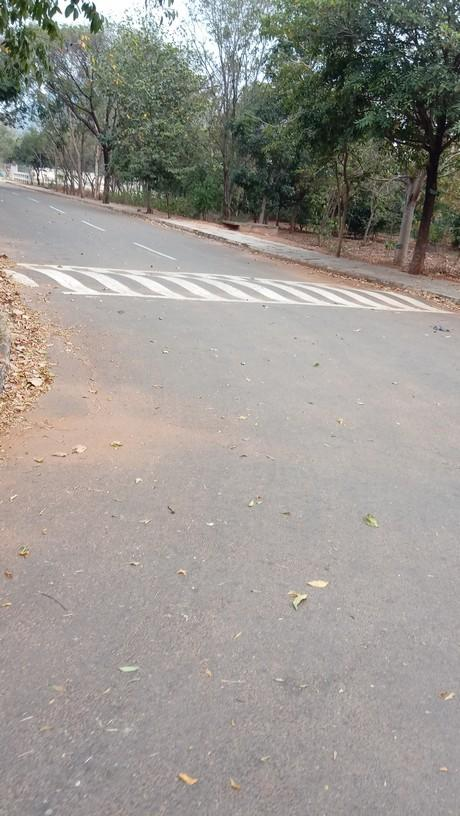speed-bump: (5, 262, 459, 313)
